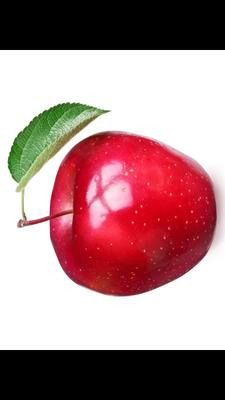apple: (0, 0, 225, 400)
